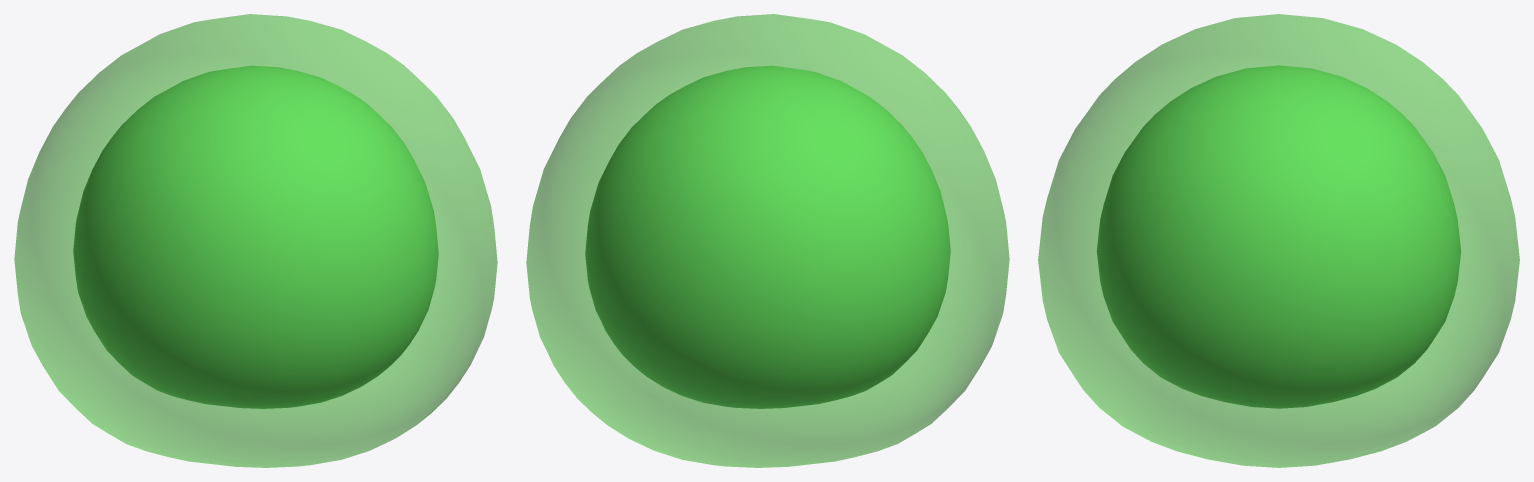
Rendered from Michael.FBX.
3 renders of one model, left to right at view 1: azimuth 30°, elevation 25°; view 2: azimuth 150°, elevation 25°; view 3: azimuth 270°, elevation 25°, orthographic.
Parts seen in each view (by area): view 1: Box001, Box002; view 2: Box001, Box002; view 3: Box001, Box002.
Boxes of the visible parts, left/top/right/bottom form: Box001: left=14, top=14, right=497, bottom=467; Box002: left=73, top=65, right=438, bottom=408; Box001: left=526, top=14, right=1009, bottom=467; Box002: left=585, top=65, right=950, bottom=408; Box001: left=1038, top=14, right=1519, bottom=467; Box002: left=1096, top=65, right=1461, bottom=408.
Size of the model in its own units: 59.94 by 51.8 by 59.94.
